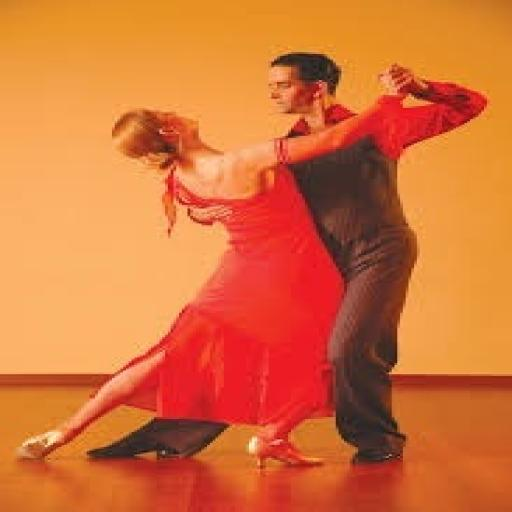dancing: (0, 52, 490, 396)
